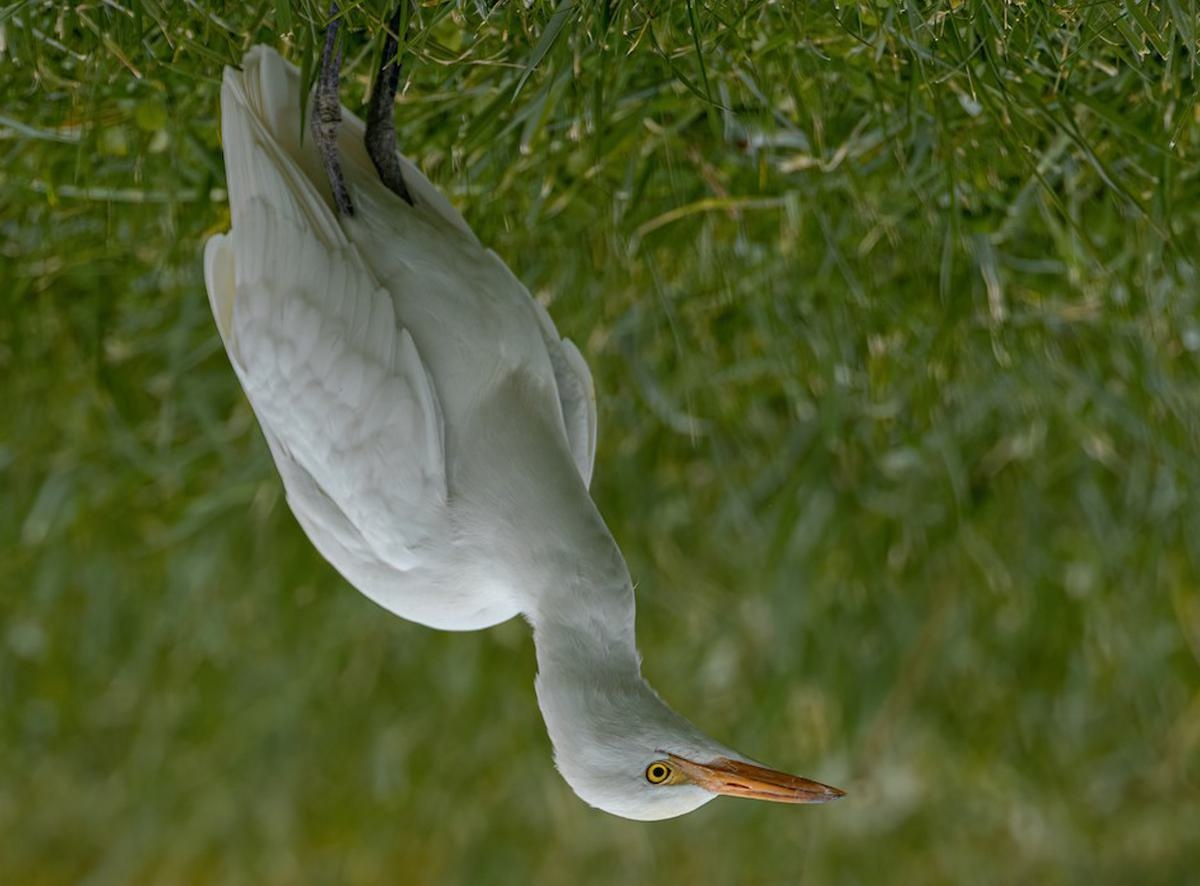egret: (156, 87, 850, 825)
